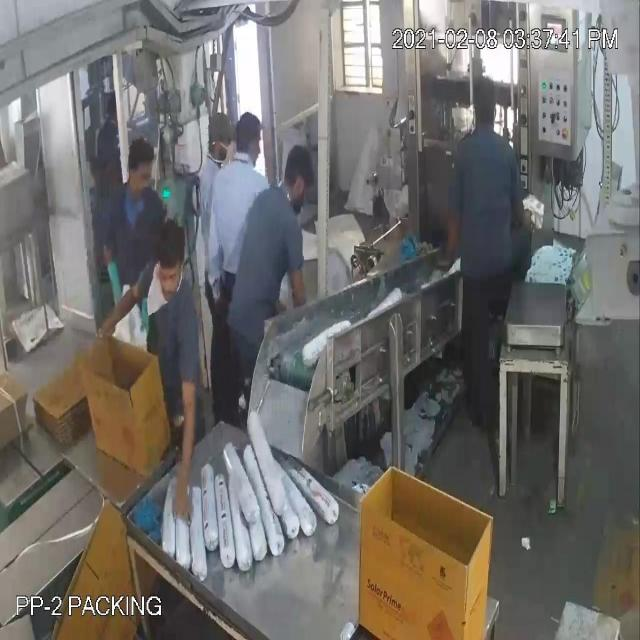Gloves: (22, 65, 188, 446)
